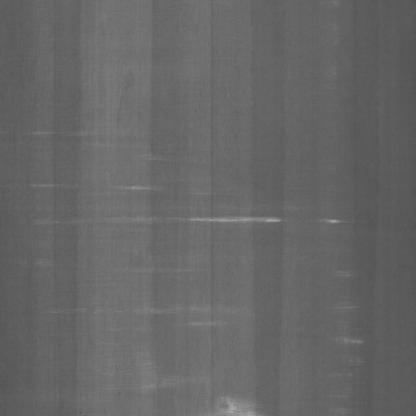waist_folding: (71, 8, 301, 335)
